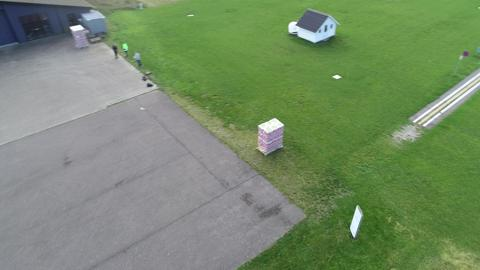RockwoolPallet: (69, 24, 90, 50)
